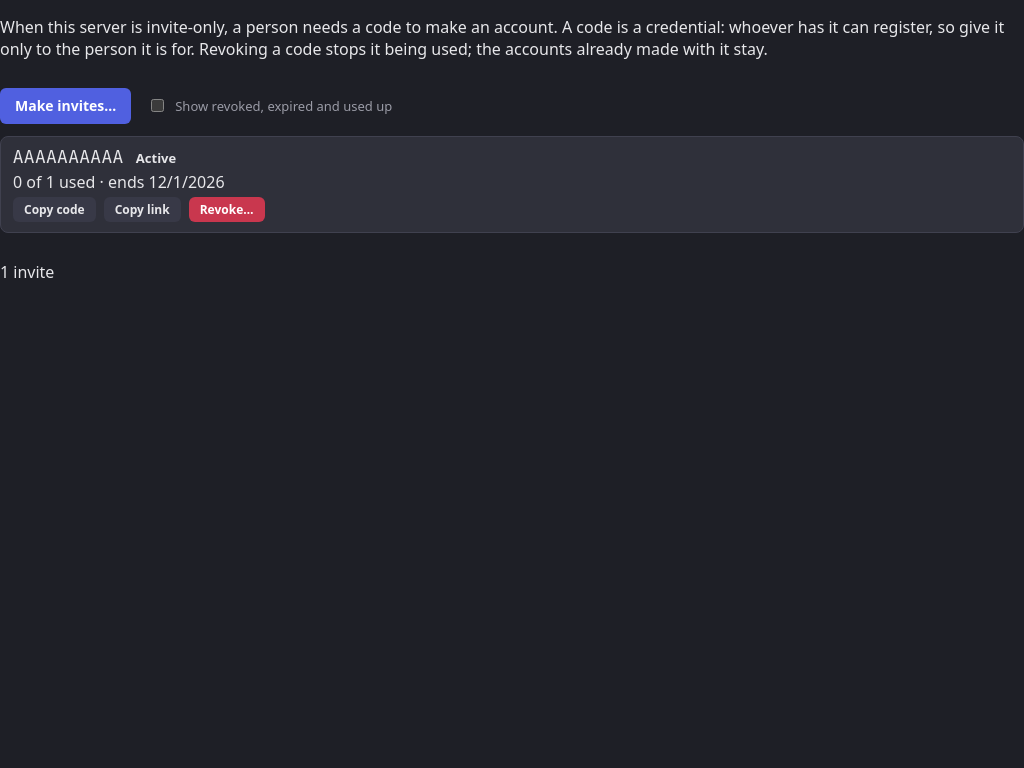
Test: making invites › makes nothing, and says nothing, when they back out of confirming it is them
Expected: the text "AAAAAAAAAA" is shown, [13,146,124,166]
Step 1. Click the button "Make invites…" → (66, 106), box [0,88,131,124]
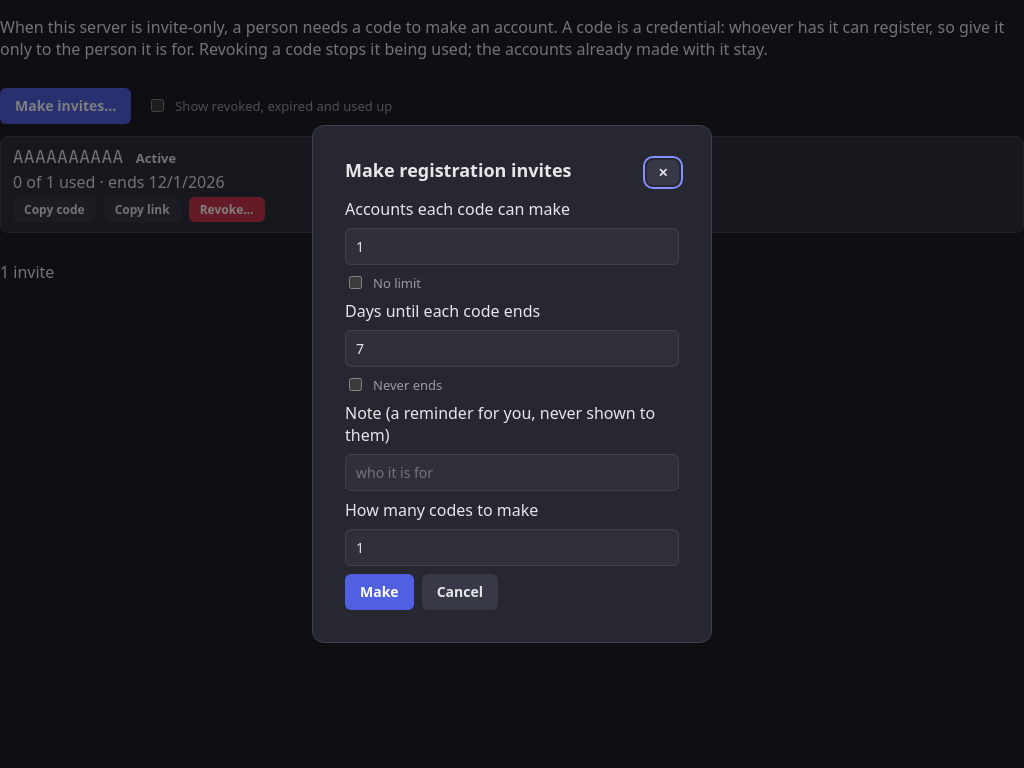
Step 2. Click the button "Make" → (379, 592), box [345,574,414,610]
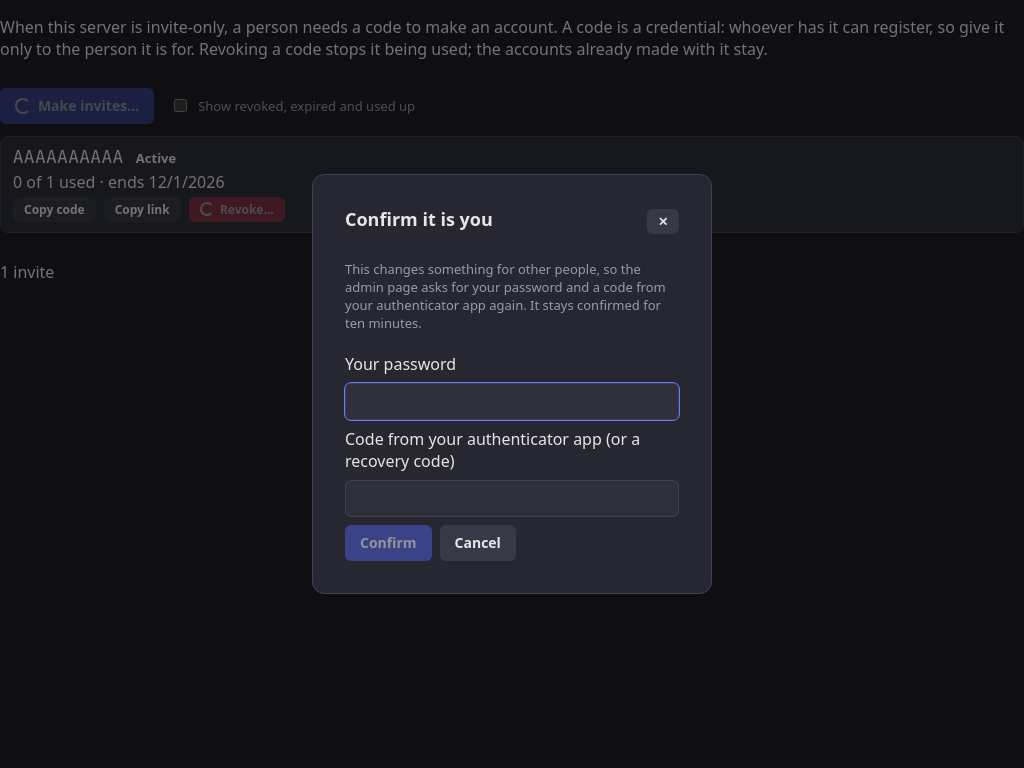
Step 3. Click the button "Cancel" → (478, 543), box [440,525,516,561]
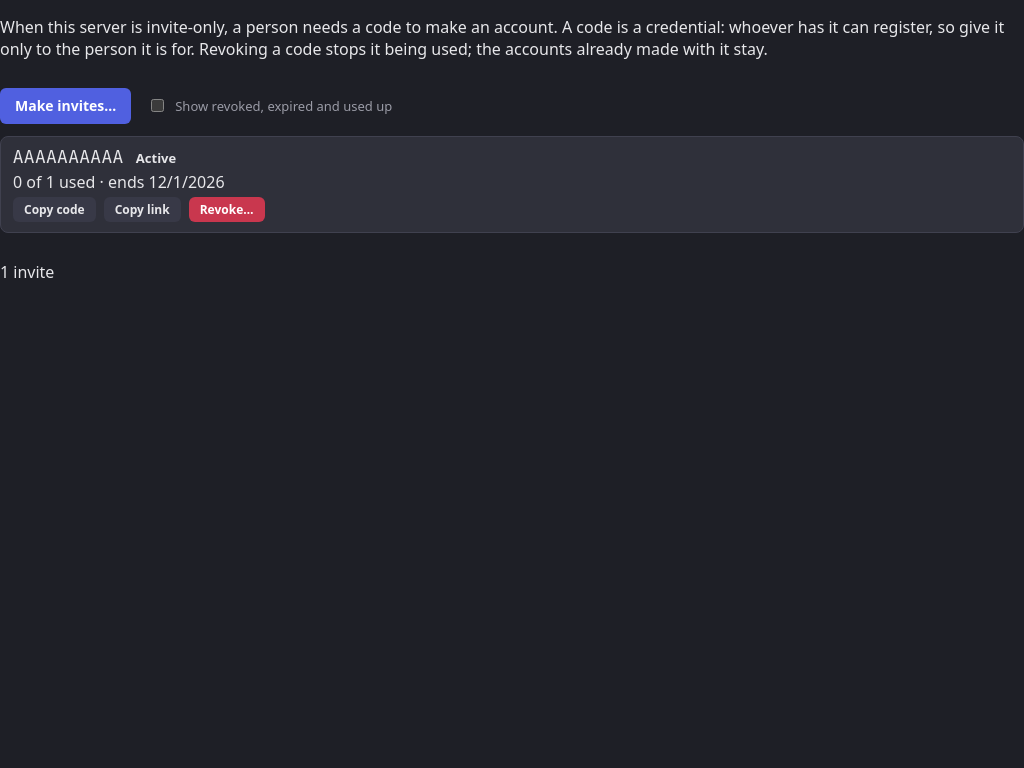
Now the dialog is gone
